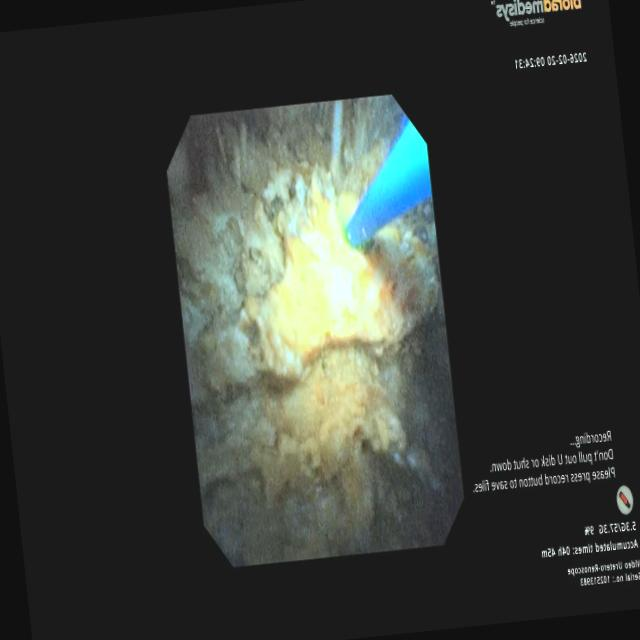stone-new: (173, 95, 444, 561)
